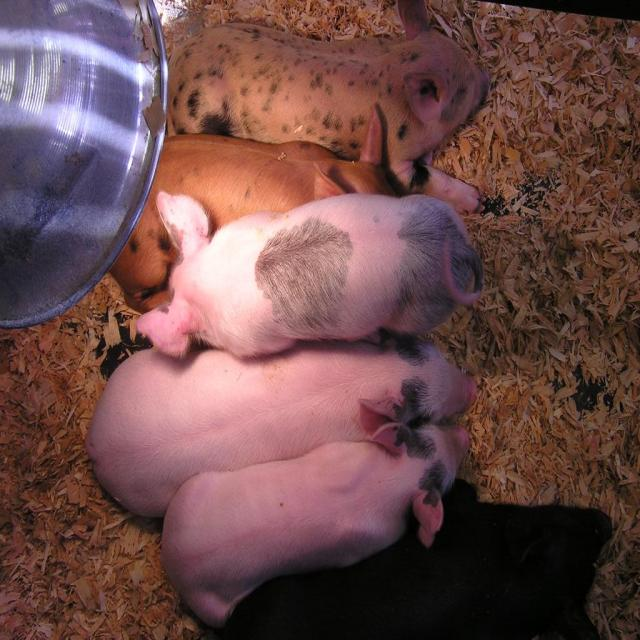Pig: (84, 0, 491, 627)
